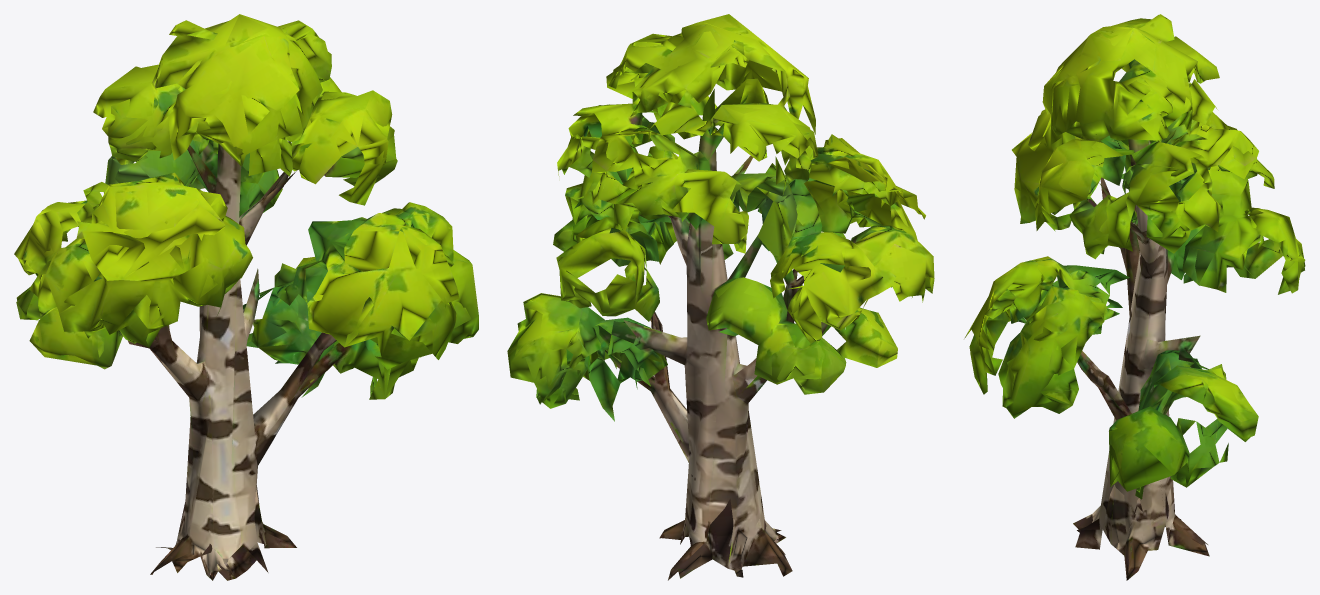
Rendered from tree_meadow_birch.glb.
3 views of the same model, side by side, from view 1: azimuth 30°, elevation 25°; view 2: azimuth 150°, elevation 25°; view 3: azimuth 270°, elevation 25° (orthographic). The views are drawn at different scales.
Parts seen in each view (by area): view 1: BakeLow; view 2: BakeLow; view 3: BakeLow.
Part boxes in pixels (x1,y1,x2,y2): BakeLow: (14,14,478,580); BakeLow: (507,14,934,580); BakeLow: (964,14,1305,580).
Bounding box in the file's own units: 0.6705 × 0.8684 × 0.5105.
1 material, 1 textured.
